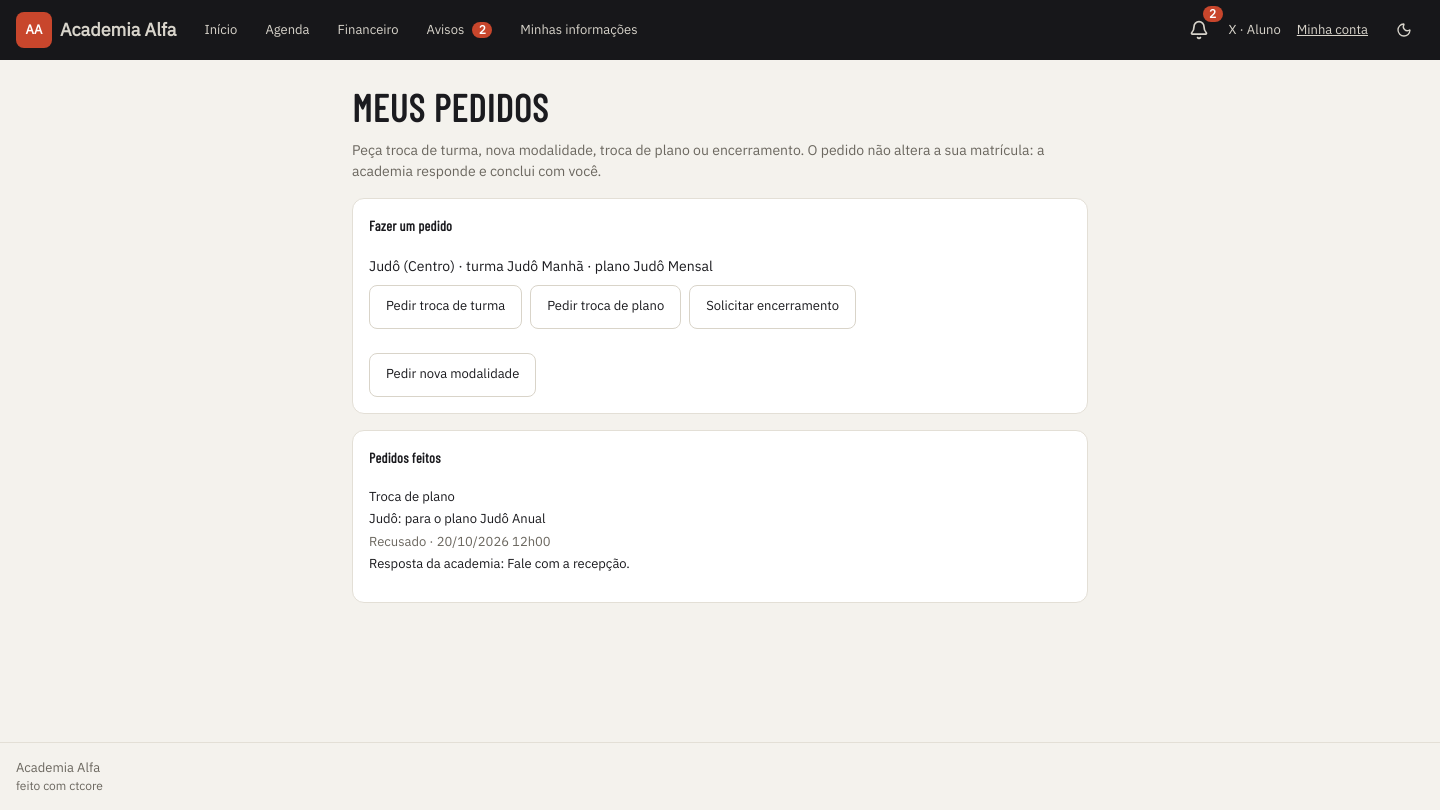
Test case: PortalRequestsPage do portal (RF-MAT-04) › CA20: pedir troca de turma lista só as turmas válidas e envia o pedido
Click the button "Pedir troca de turma": x=446, y=306 x1=369 y1=284 x2=522 y2=328
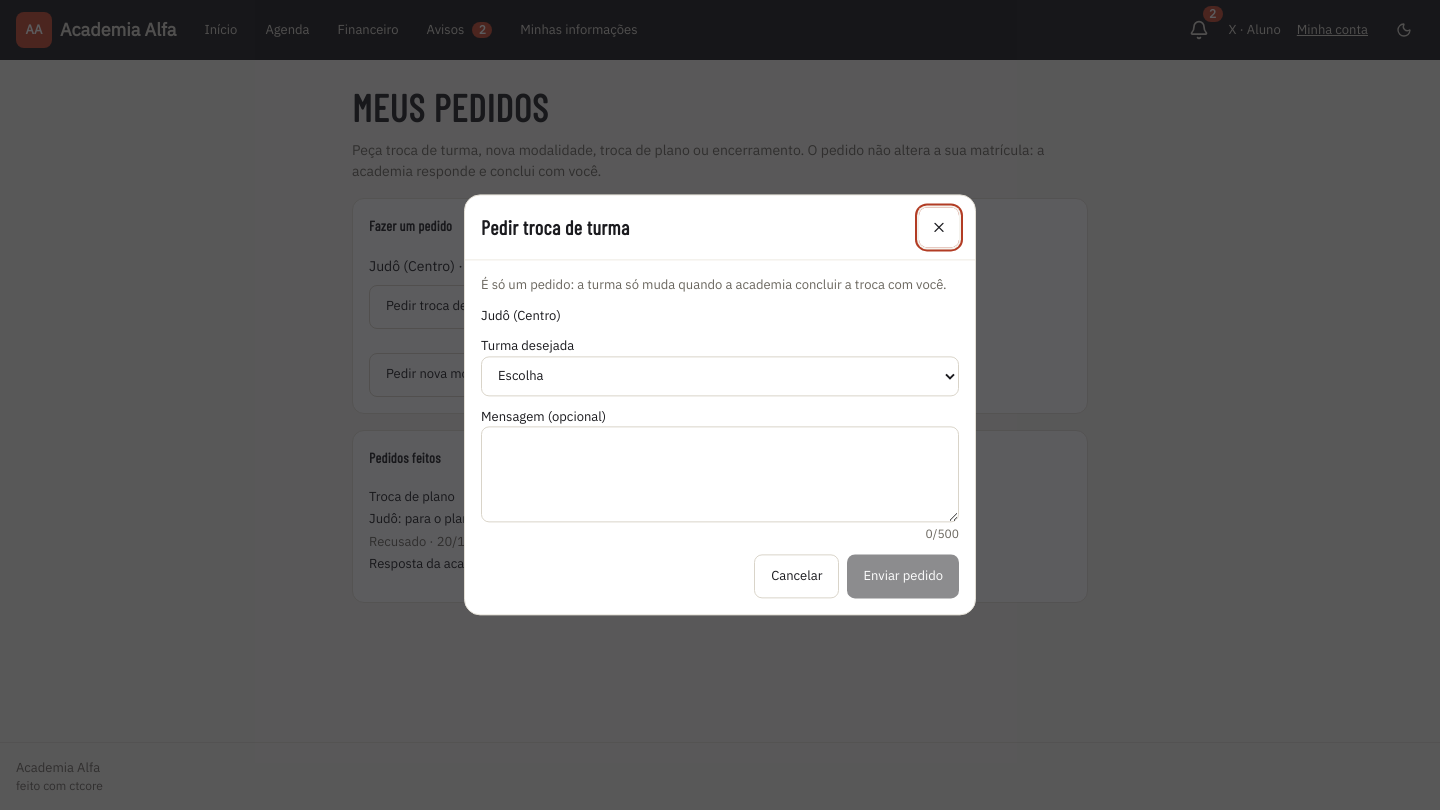
Select "Judô Noite" in the dropdown labelled "Turma desejada": x=720, y=376 x1=481 y1=356 x2=959 y2=396
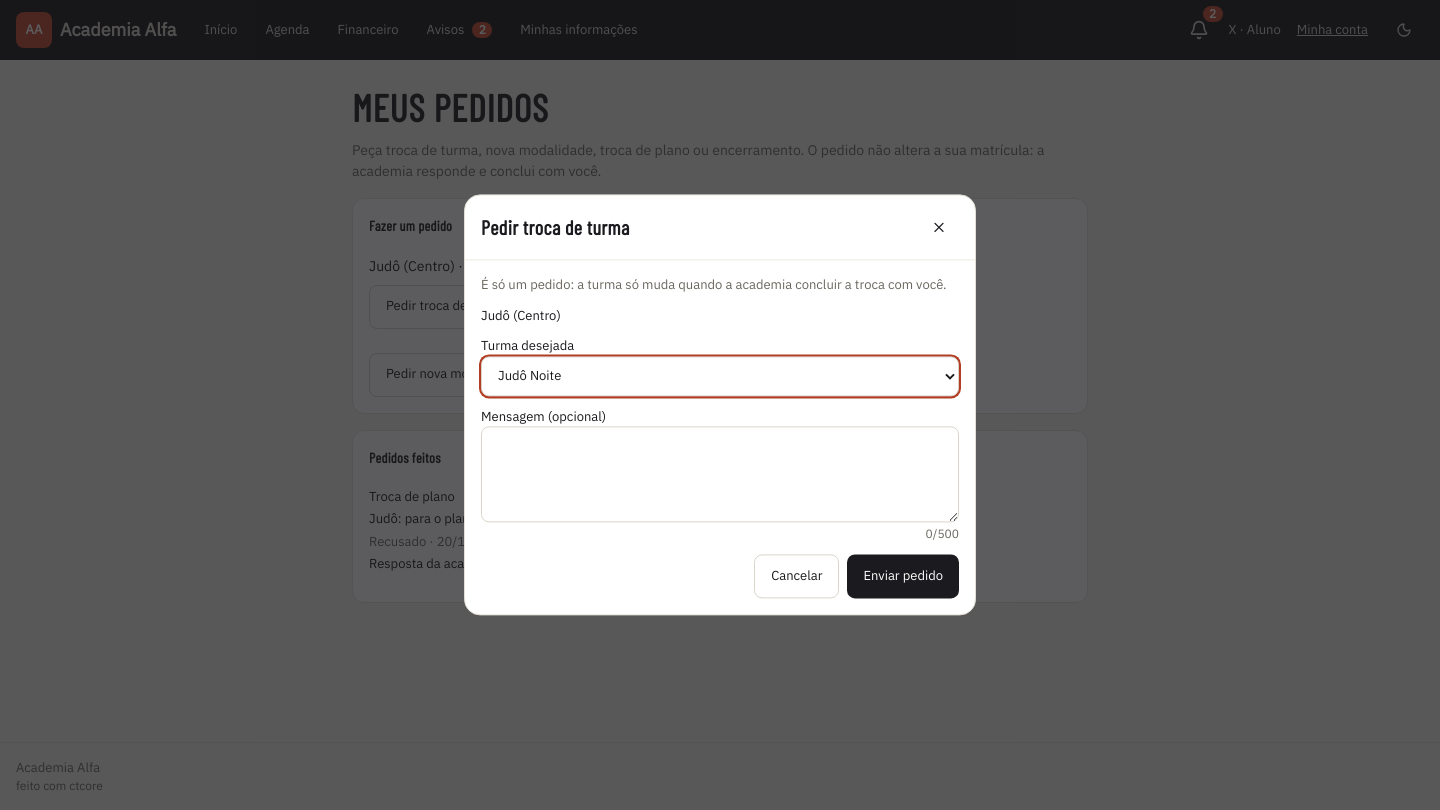
In the text box labelled "Mensagem (opcional)": x=720, y=475 x1=481 y1=427 x2=959 y2=523, type "Troco por causa do trabalho"
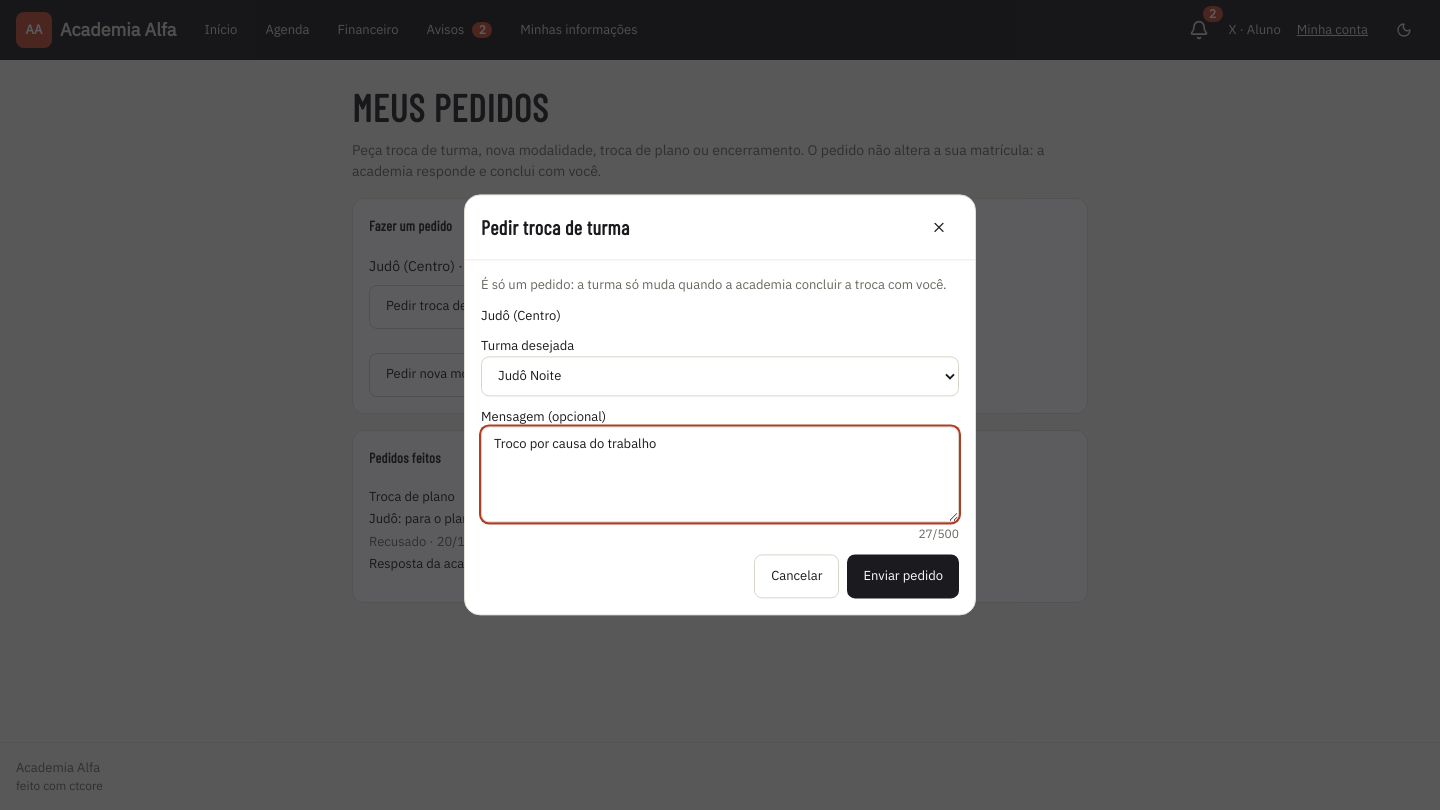
Click the button "Enviar pedido": x=903, y=577 x1=847 y1=555 x2=959 y2=599
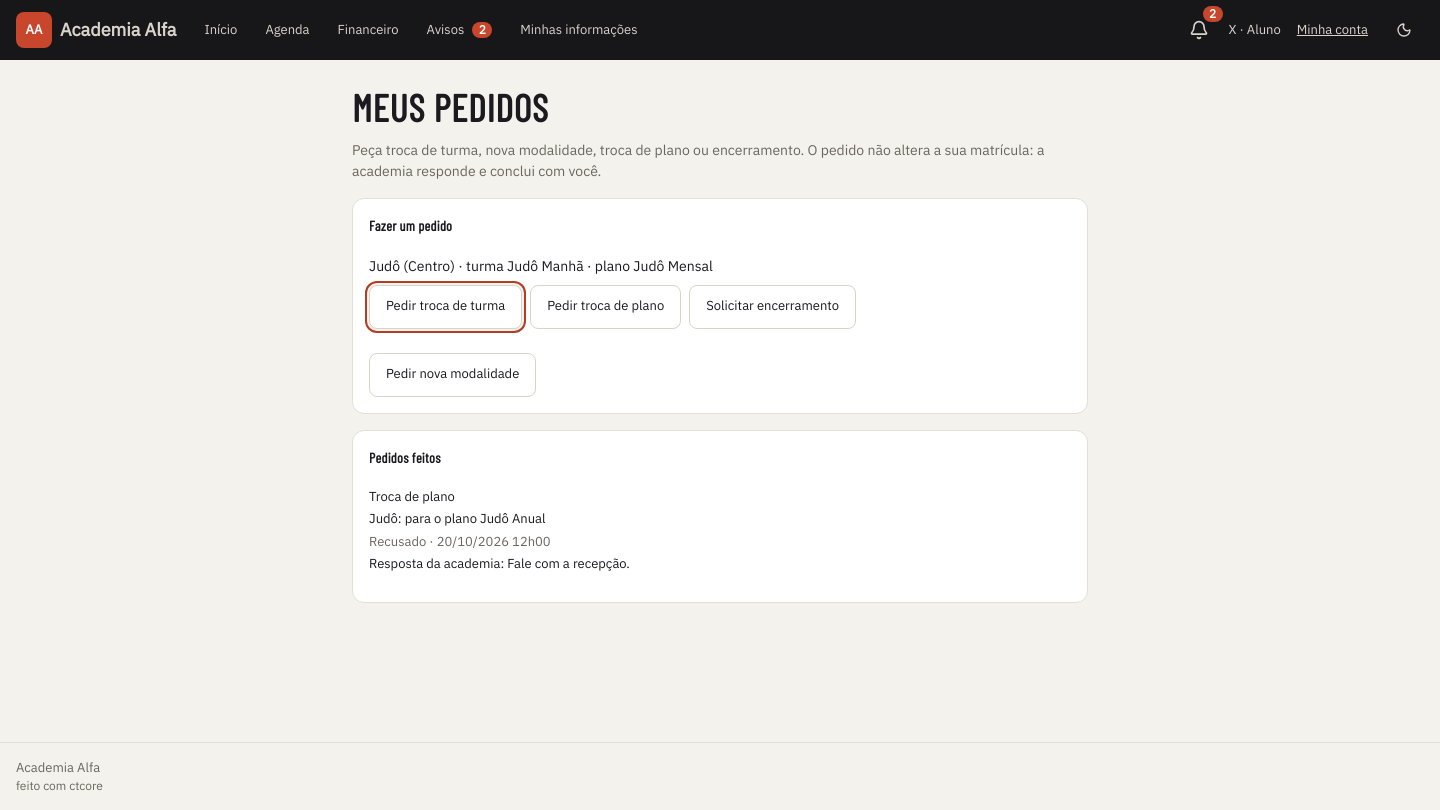
Expected: the dialog is gone
